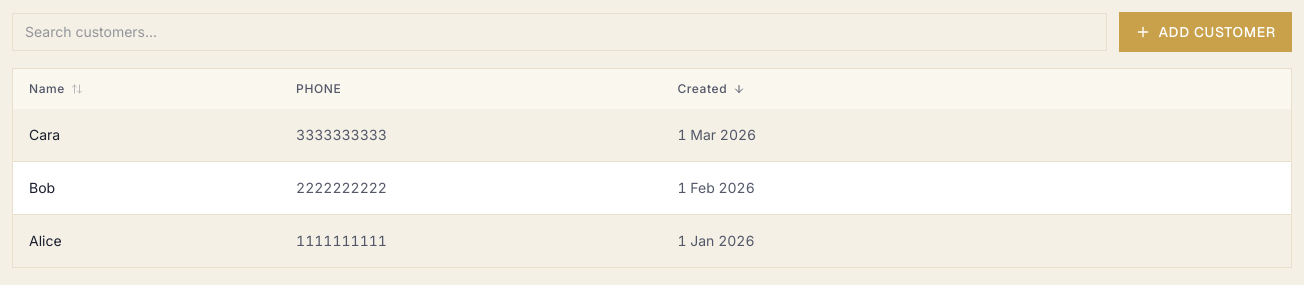
CustomersTable › search › filters rows by partial name match
Type "ali" into the search field with placeholder "Search customers…".
click(559, 32); type("ali")  # box [12,13,1107,51]
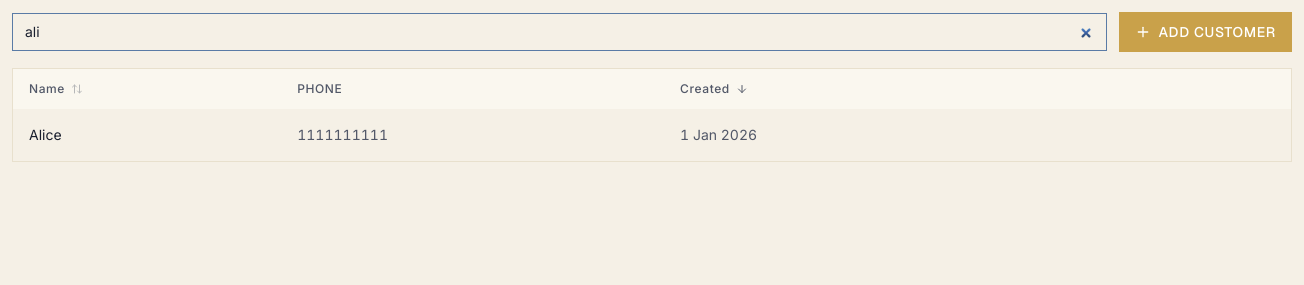
Expected: the text "Alice" is shown, [29,126,62,143]
Expected: the text "Bob" is gone
Expected: the text "Cara" is gone
